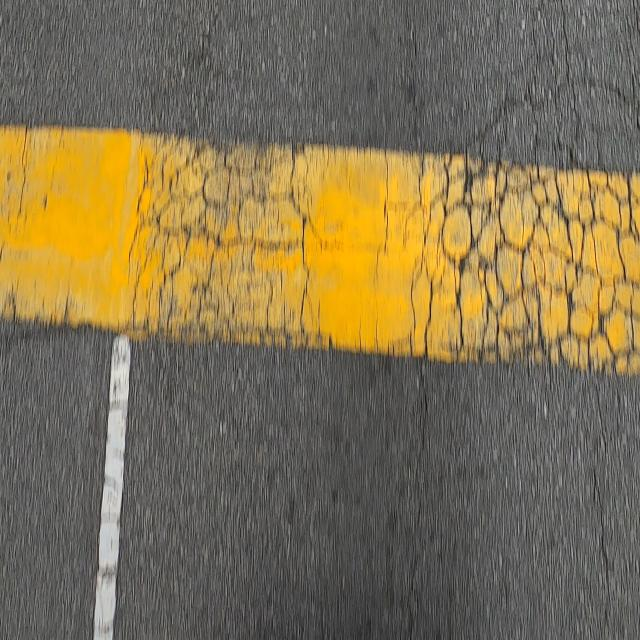Retak-Buaya: (407, 0, 640, 374), (133, 137, 309, 347)
